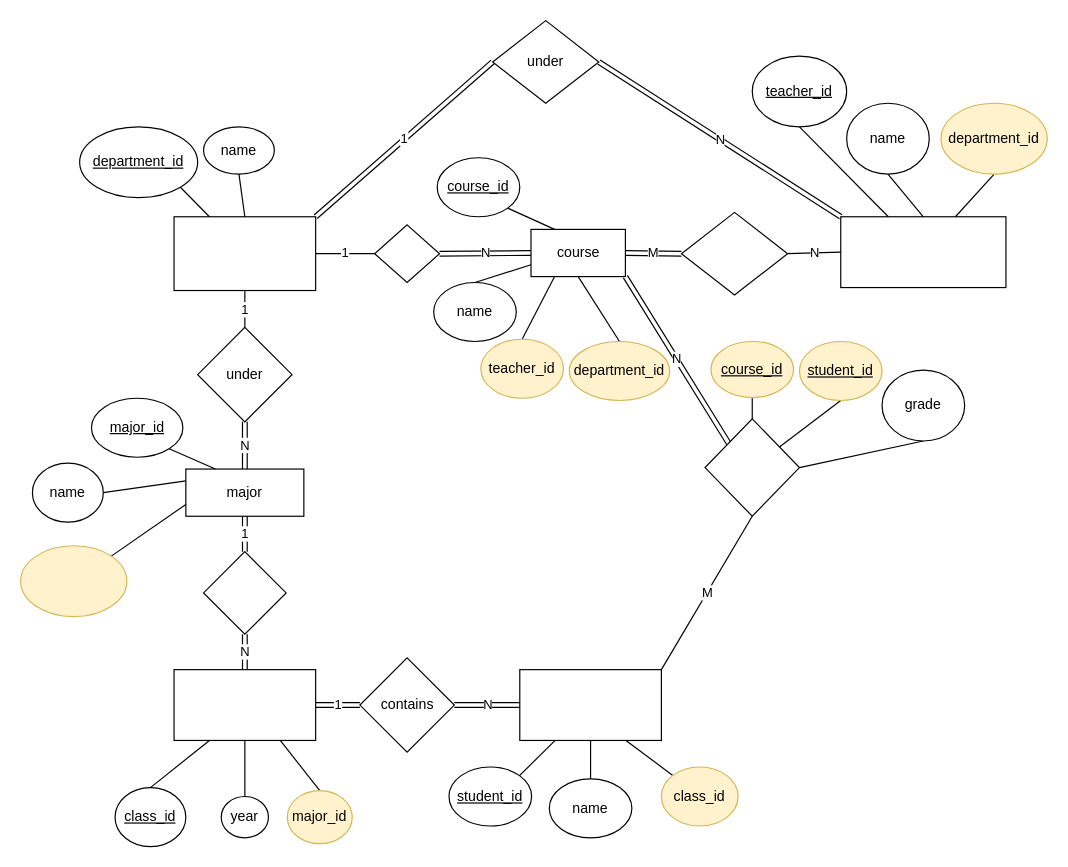
This 1068x867 diagram has some shape labels left out. Here are the shapes that lost their labels. From the top down, the centre of each, then its label:
the point at 244,253: department
the point at 406,253: open
the point at 734,253: in charge
the point at 923,252: teacher
the point at 751,467: Course Selection
the point at 73,581: departmen_id
the point at 244,592: major in
the point at 244,704: class
the point at 590,704: student
